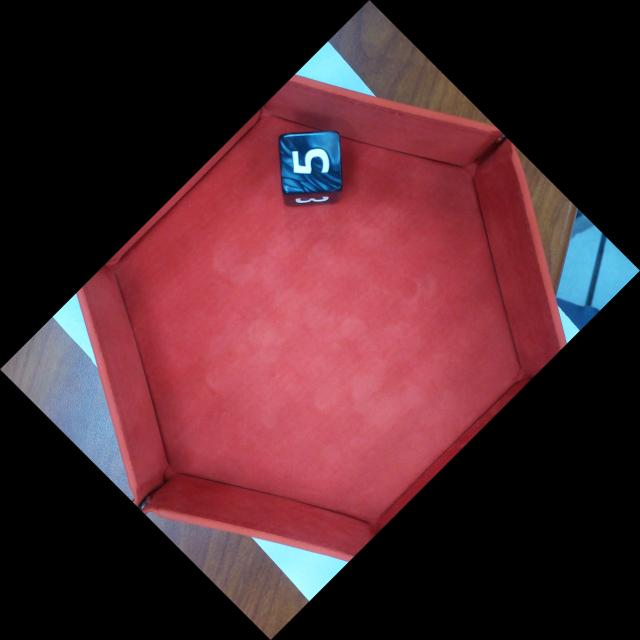dice: (277, 129, 344, 194)
